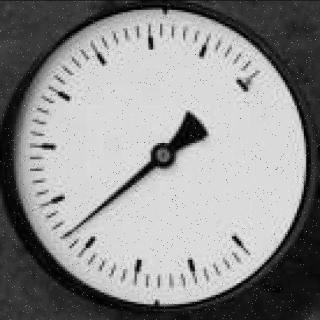gauge: (0, 0, 320, 320), (203, 210, 266, 262), (228, 54, 274, 102), (149, 142, 175, 168), (59, 231, 71, 243)
